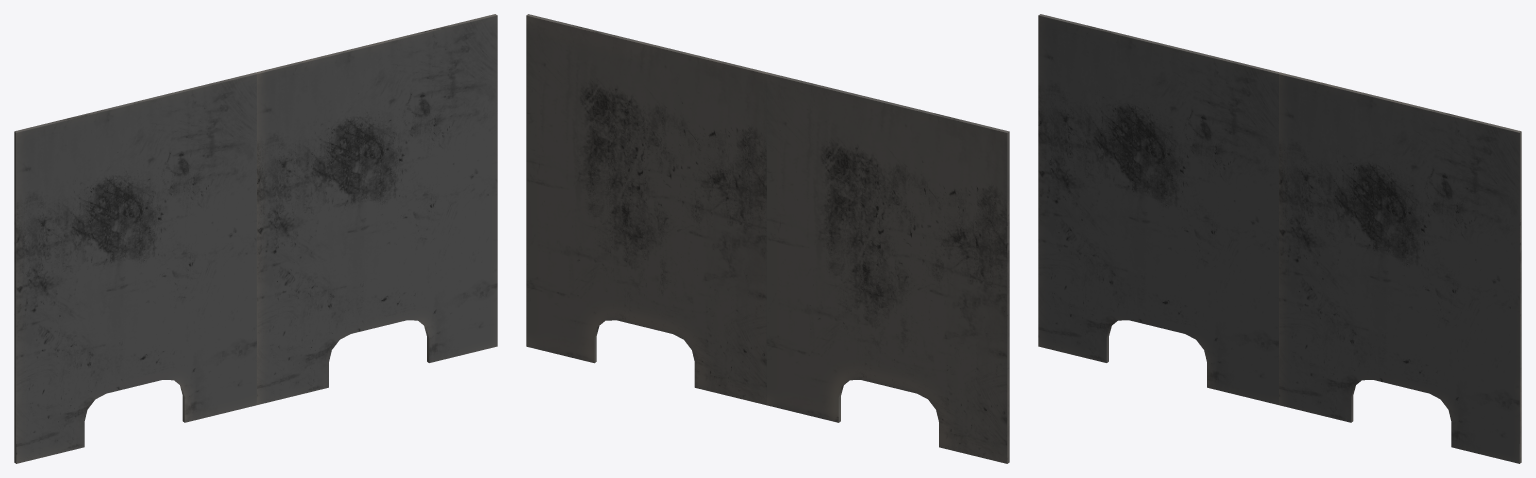
The model's file is Locket_Glass_Right.fbx.
3 renders of one model, left to right at view 1: azimuth 30°, elevation 25°; view 2: azimuth 150°, elevation 25°; view 3: azimuth 330°, elevation 25°, orthographic.
Parts seen in each view (by area): view 1: Locket_Glass_Right, Locket_Glass_Left; view 2: Locket_Glass_Right, Locket_Glass_Left; view 3: Locket_Glass_Left, Locket_Glass_Right.
Boxes of the visible parts, x1,y1,x2,y2 form: Locket_Glass_Right: (14, 72, 256, 463); Locket_Glass_Left: (255, 14, 497, 404); Locket_Glass_Right: (766, 73, 1009, 463); Locket_Glass_Left: (526, 14, 768, 405); Locket_Glass_Left: (1279, 72, 1521, 463); Locket_Glass_Right: (1038, 14, 1280, 404).
Bounding box in the file's own units: 246 × 1.88 × 162.
Materials: 2 (2 with a texture image).
